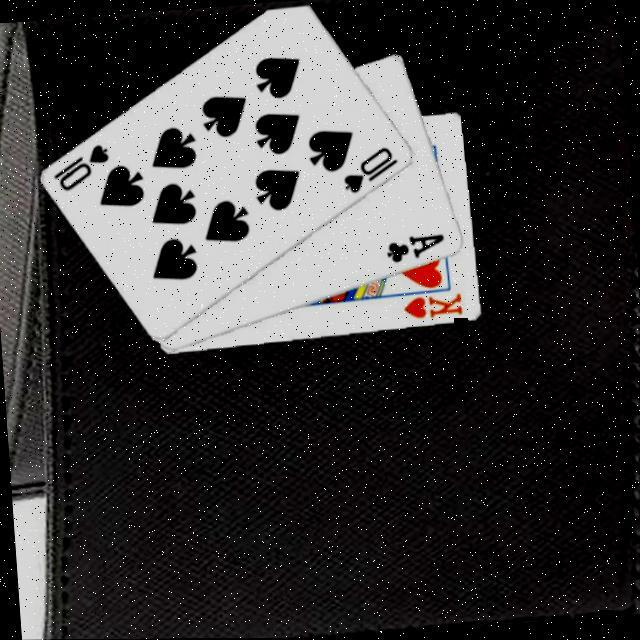10S: (336, 142, 402, 196), (48, 139, 112, 193)
AC: (382, 229, 448, 265)
KH: (398, 289, 464, 321)
